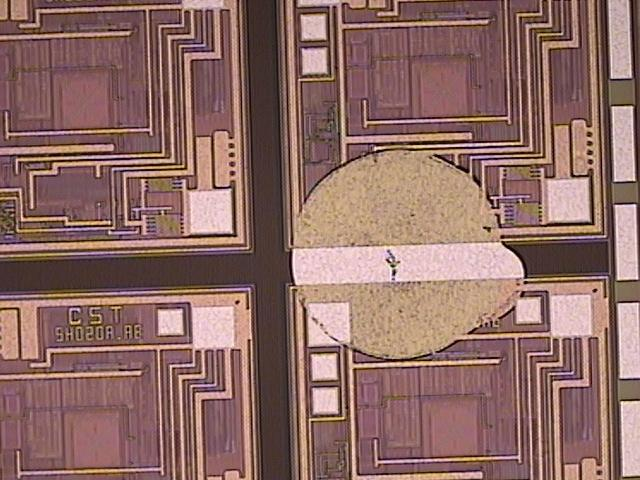BLOCK ETCH: (289, 146, 528, 366)
